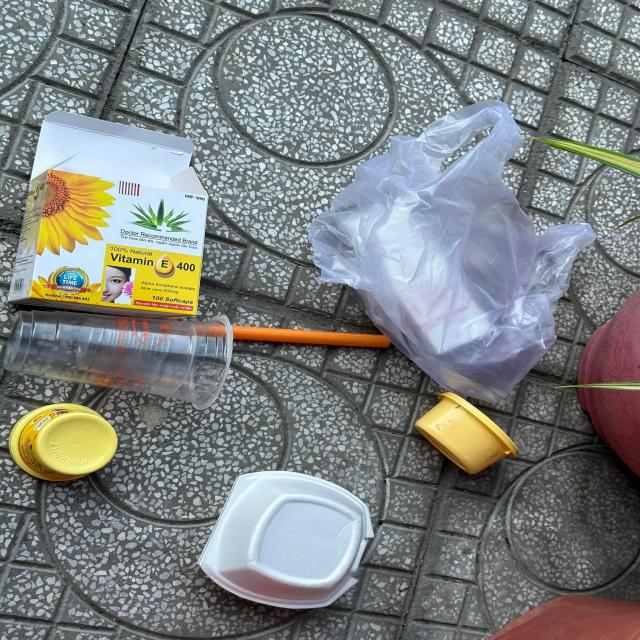bag: (310, 98, 598, 404)
cardboard box: (9, 111, 212, 318)
drinking straw: (189, 323, 391, 348)
foam box: (198, 471, 376, 610)
plastic glass: (2, 310, 234, 409)
plastic holder: (414, 392, 520, 476), (8, 403, 120, 482)
